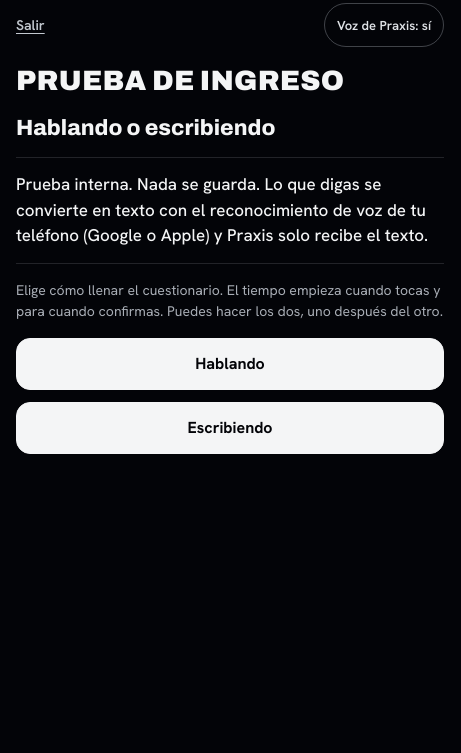
it: ESCRIBIENDO: el mismo formulario, vacío, a mano › empieza vacío, se llena a mano y el cronómetro para en «Confirmar»
Click the button "Escribiendo" at (230, 428), box [16, 402, 444, 454]
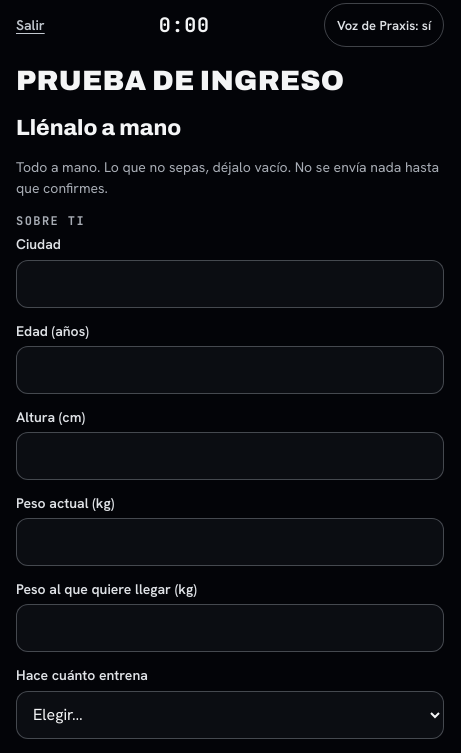
Expected: the heading "Llénalo a mano" is shown, [16, 116, 181, 140]
Expected: the element showing "0:00" is shown, [159, 15, 210, 35]
Expected: the field labelled "Ciudad" is empty
Type "Zipaquirá" into the field labelled "Ciudad" at (230, 284), box [16, 260, 444, 308]
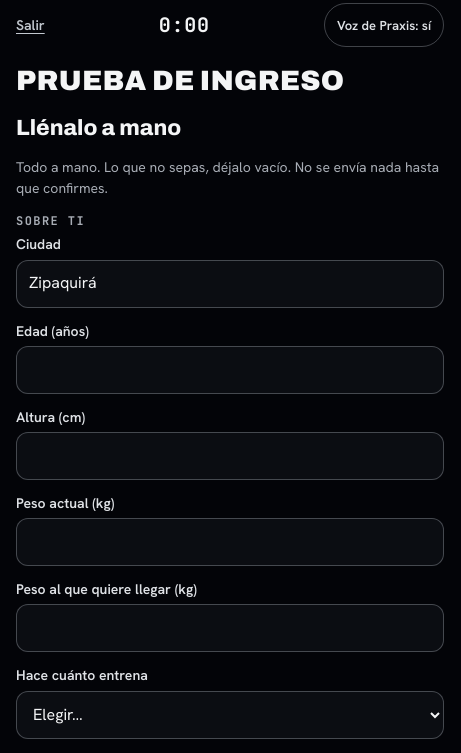
Type "47" into the field labelled "Edad (años)" at (230, 370), box [16, 346, 444, 394]
(page scrolled)
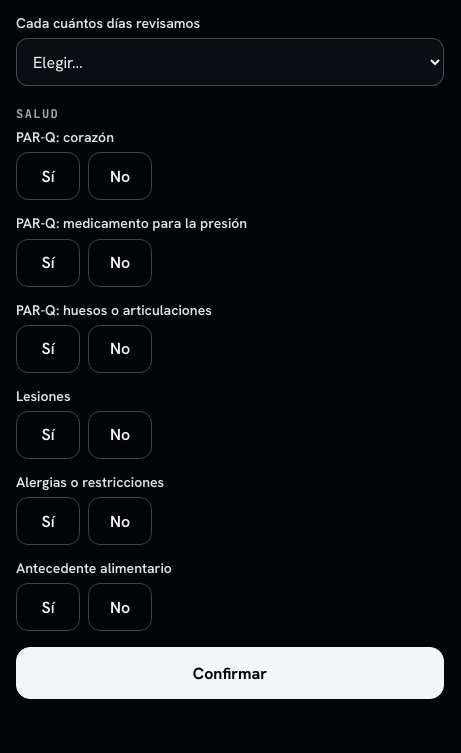
Click the button "Confirmar" at (230, 673), box [16, 647, 444, 699]
(page scrolled)
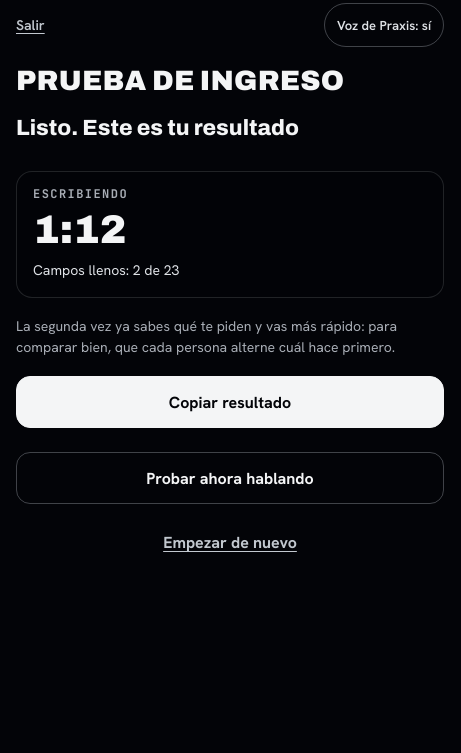
Expected: the text named "Tiempo total 1:12" is shown, [33, 208, 126, 251]
Expected: the element named "Resultado escribiendo" reads "Escribiendo 1:12 Campos llenos: 2 de 23", [16, 171, 444, 298]
